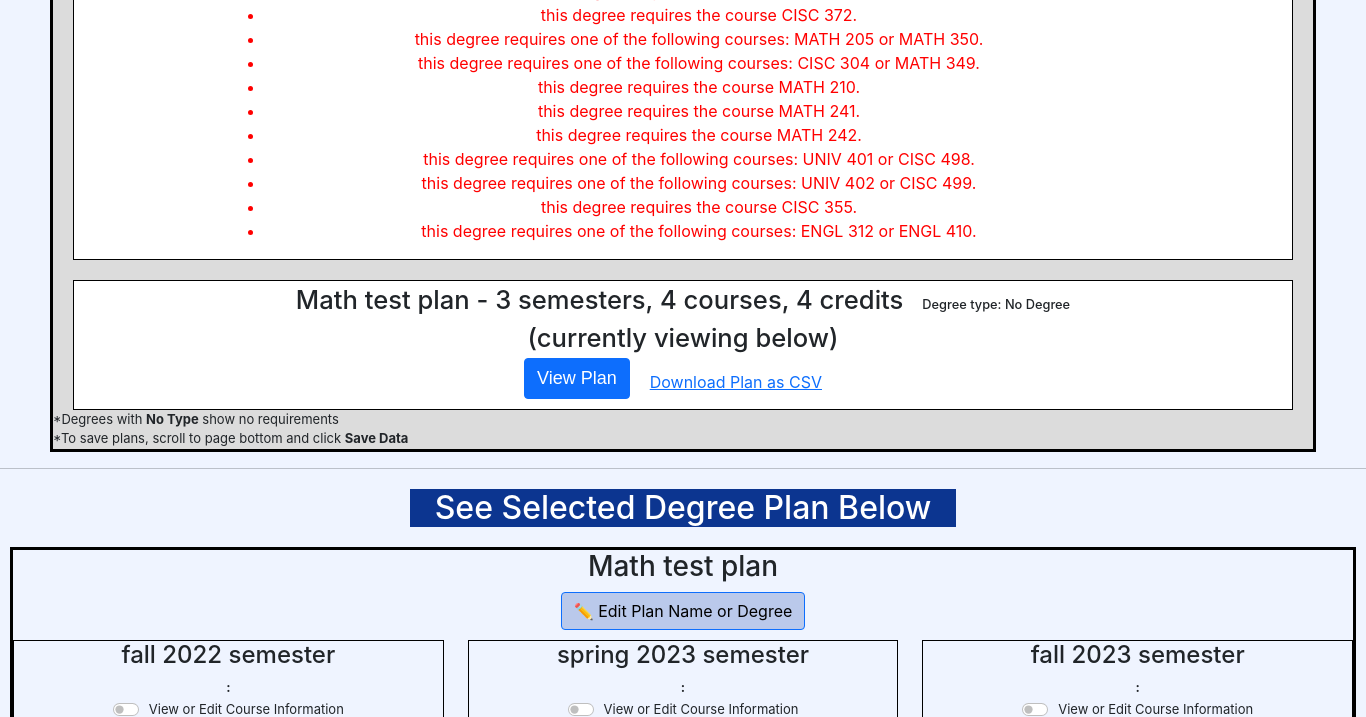
ViewDegreePlansList Tests › Testing existance of forms and buttons
(page scrolled)
Click the button with test id "107-degree-plan" at (577, 378), box [524,358,630,399]
(page scrolled)
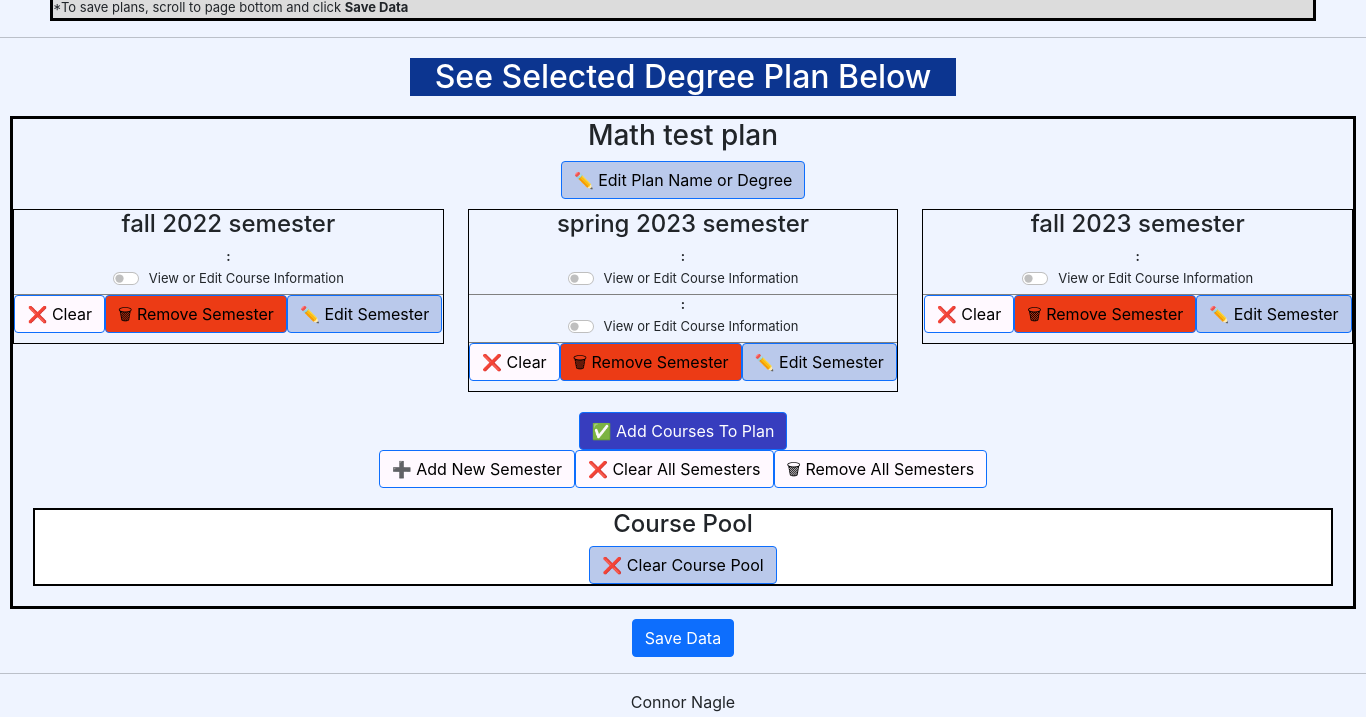
Click the button with test id "107-add-course-degree-plan" at (683, 430), box [579,412,787,450]
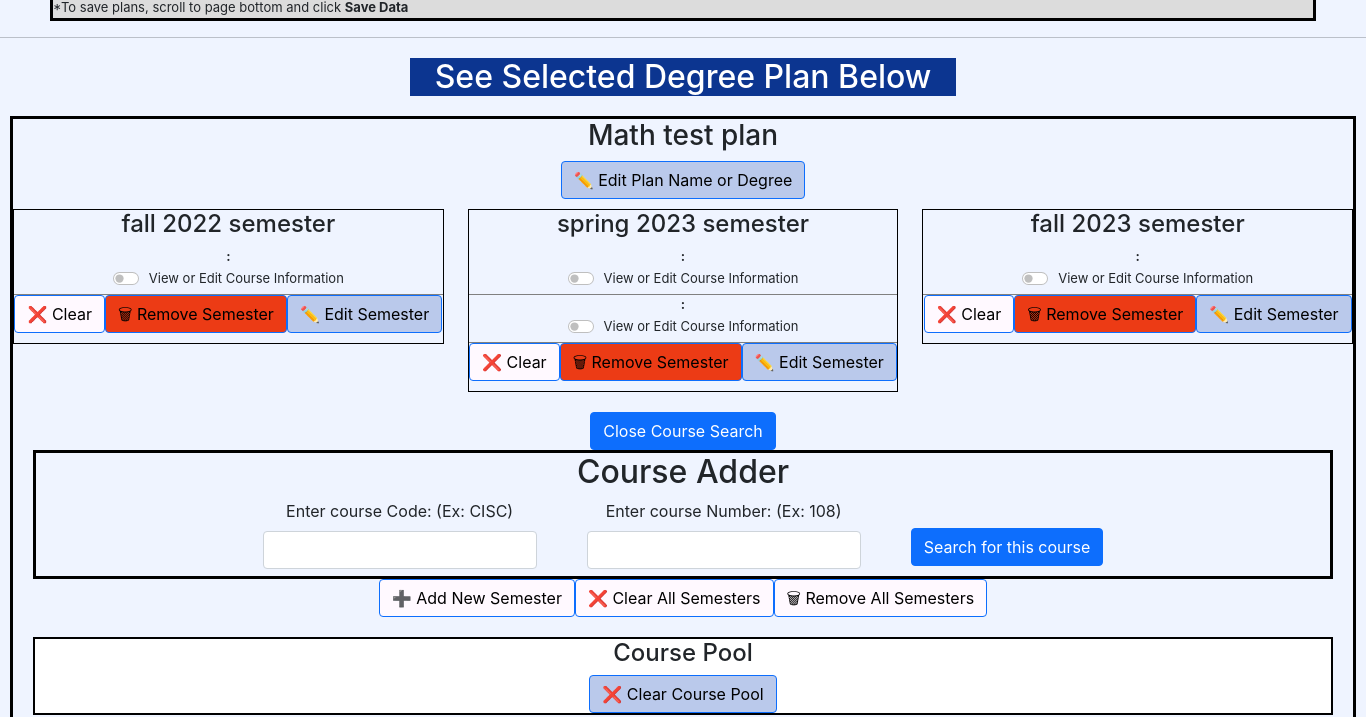
Now the field with test id "107-add-course-code" is shown, box [263,531,537,569]
Now the field with test id "107-add-course-number" is shown, box [587,531,861,569]
Now the button with test id "107-add-course-search" is shown, box [911,528,1103,566]
